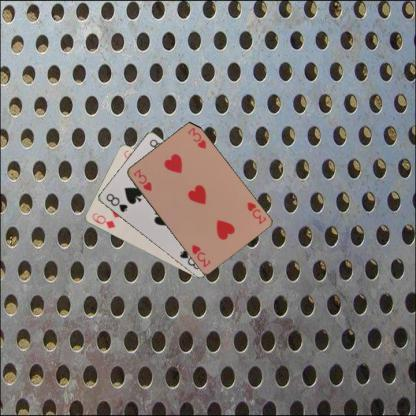3h: (244, 200, 267, 226), (130, 166, 152, 192)
6d: (90, 210, 116, 230)
8s: (103, 191, 129, 213)
